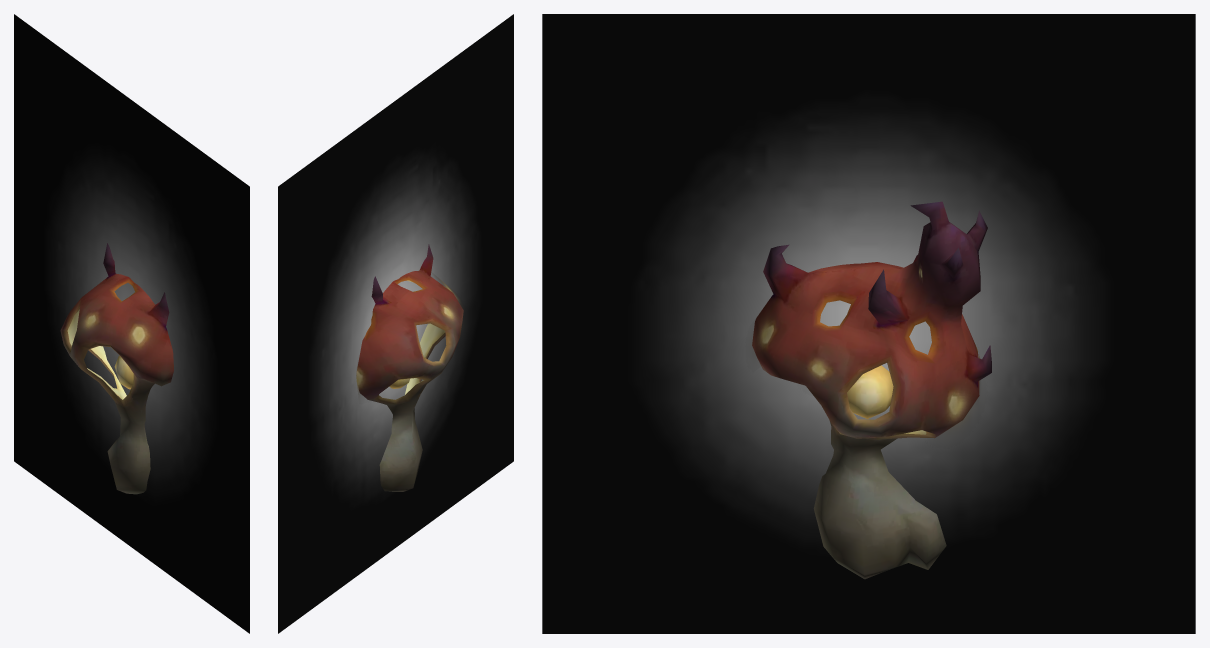
The picture shows the model from 3 angles, left to right: view 1: azimuth 30°, elevation 25°; view 2: azimuth 150°, elevation 25°; view 3: azimuth 270°, elevation 25°; orthographic projection. The views are drawn at different scales.
Bounding box in the file's own units: 1.12 × 3.35 × 3.2.
4 materials, 4 textured.
